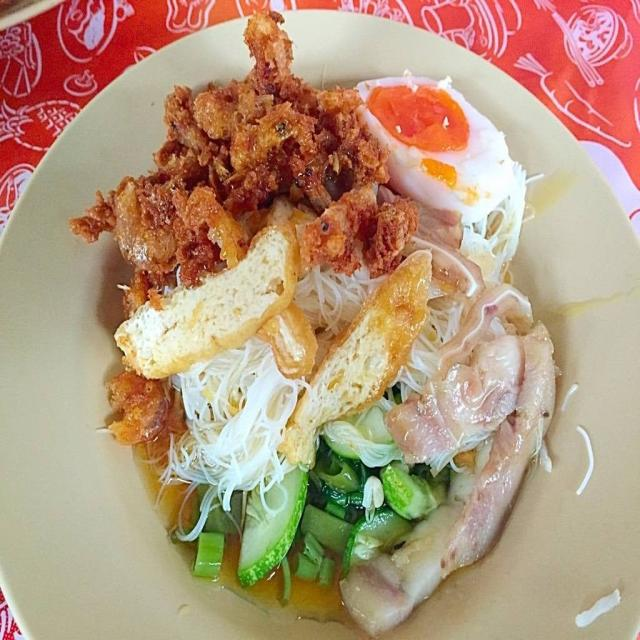Carbohydrate: (168, 235, 504, 500)
Protein: (75, 8, 556, 630)
Taokua: (3, 8, 640, 640)
Vegetable: (199, 409, 448, 586)
